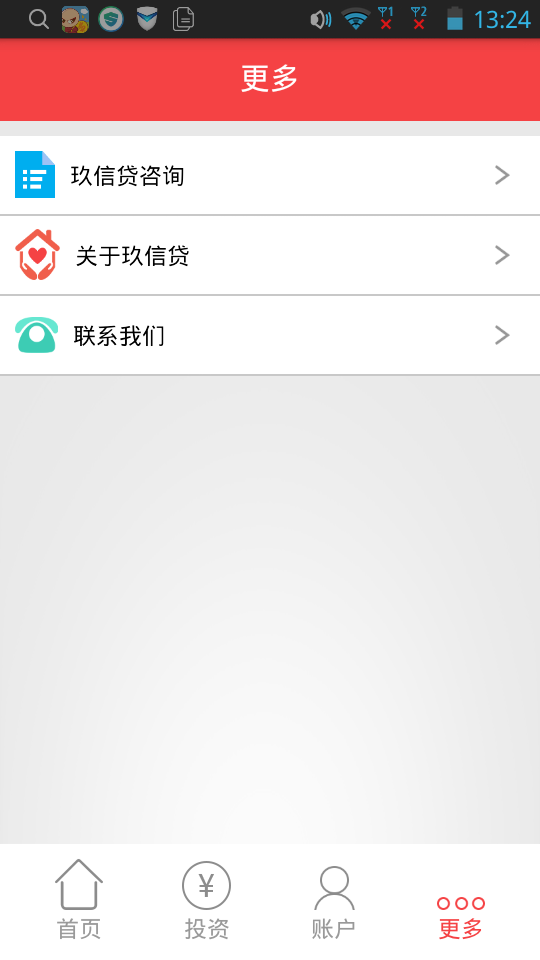textview: (1, 135, 540, 387)
